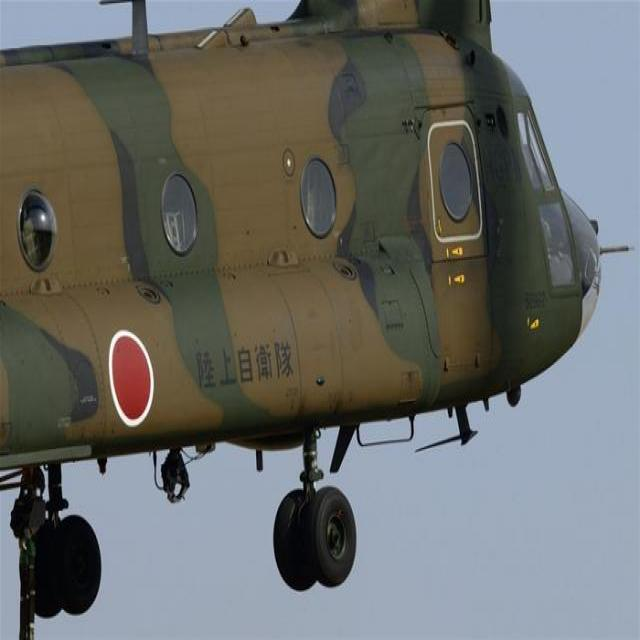MIL_HELO: (0, 0, 619, 610)
